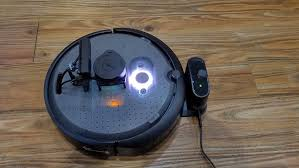turtlebot: (34, 21, 231, 167)
